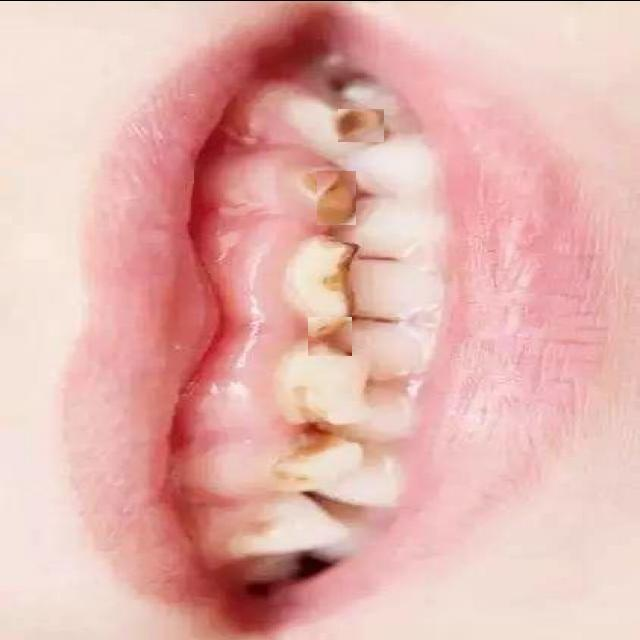decay: (331, 251, 373, 308), (317, 170, 356, 224), (291, 413, 332, 463), (308, 316, 352, 355), (338, 108, 384, 141)
